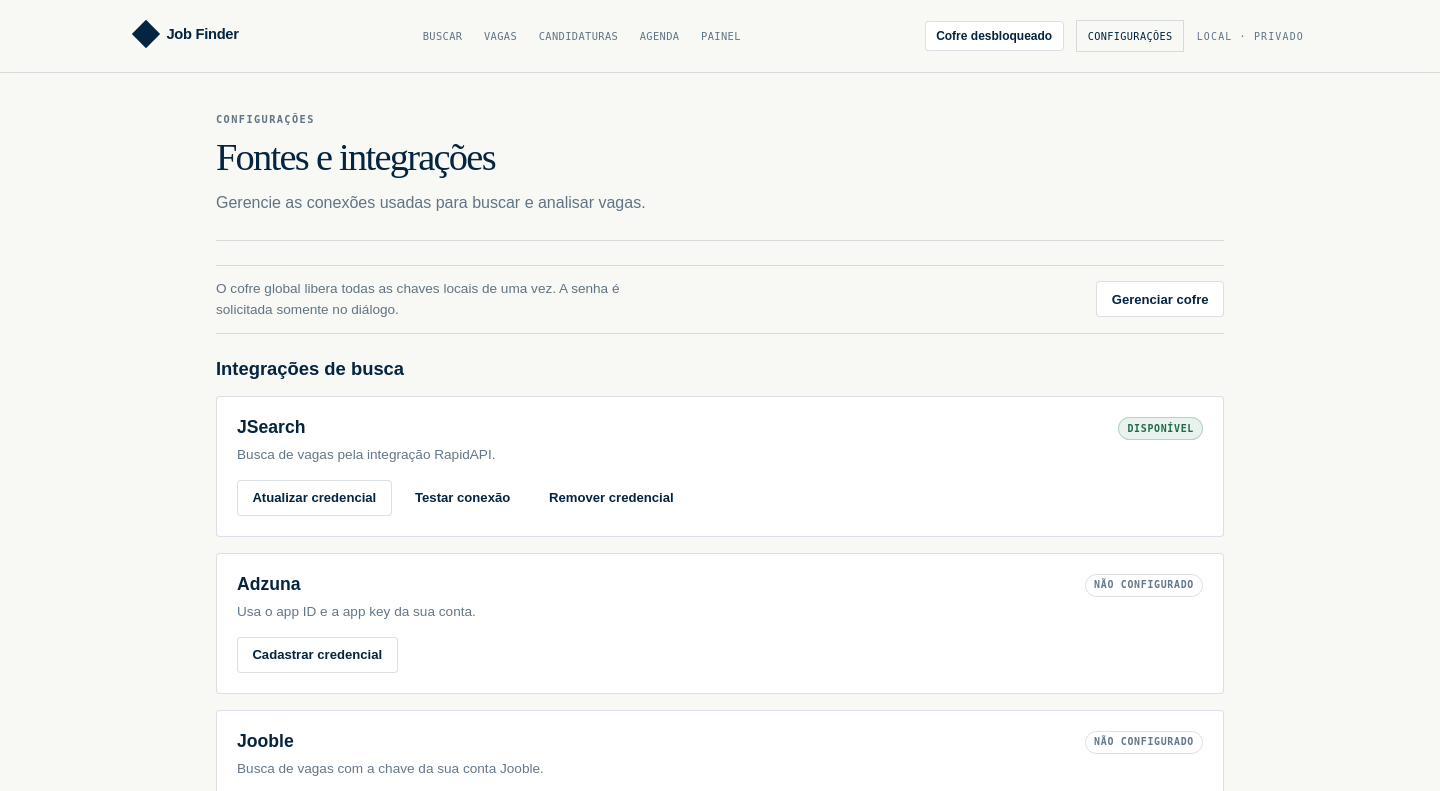
it: JF-819 fontes e configurações › mantém o erro de limite junto ao provider e permite nova ação
Click the button "Testar conexão" at [463, 498], box top-left (400, 480), bottom-right (526, 516)
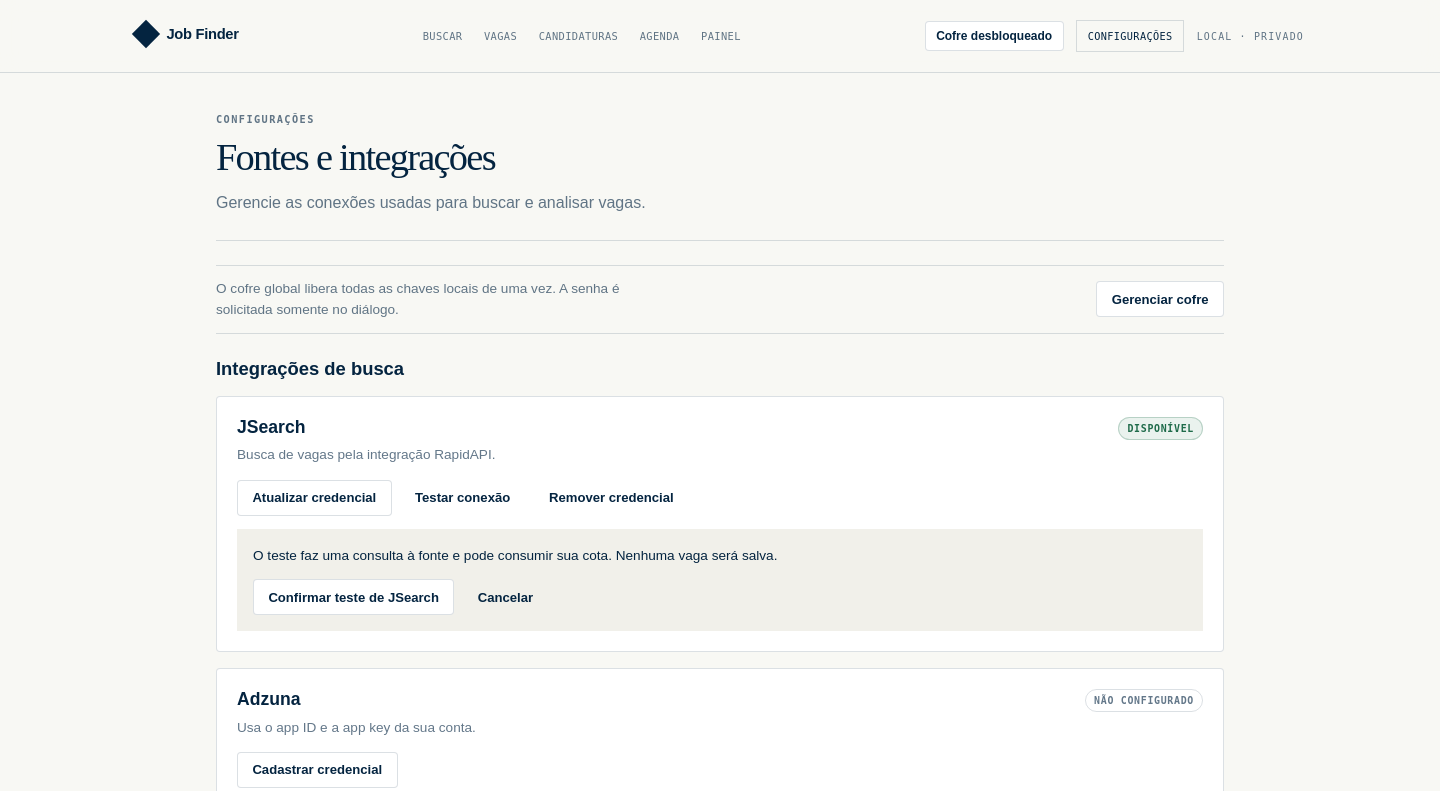
Click the button "Confirmar teste de JSearch" at [354, 597], box top-left (253, 579), bottom-right (454, 615)
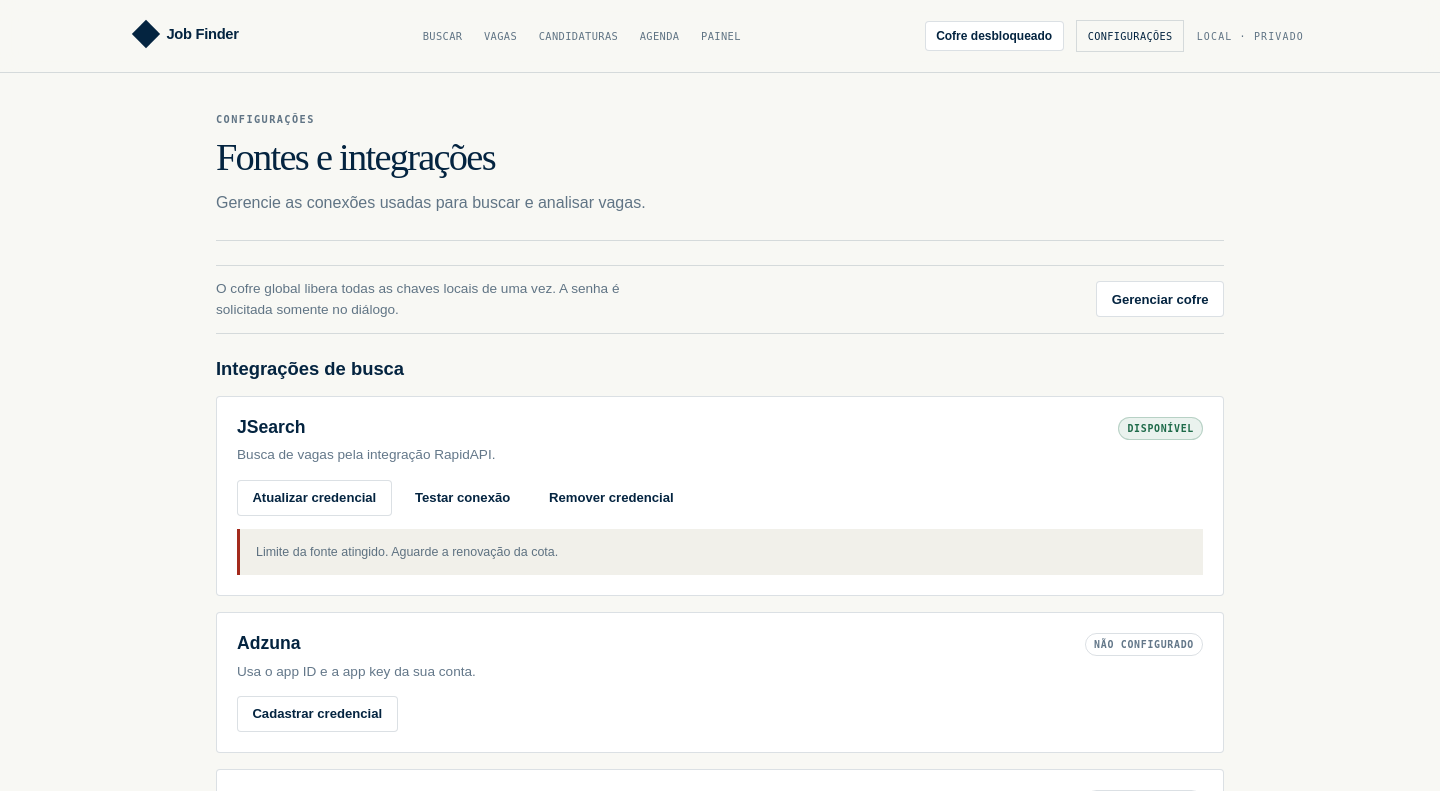
Expected: the button "Testar conexão" is enabled, top-left (400, 480), bottom-right (526, 516)
Now the message shows "Limite da fonte atingido", box top-left (256, 545), bottom-right (558, 559)
